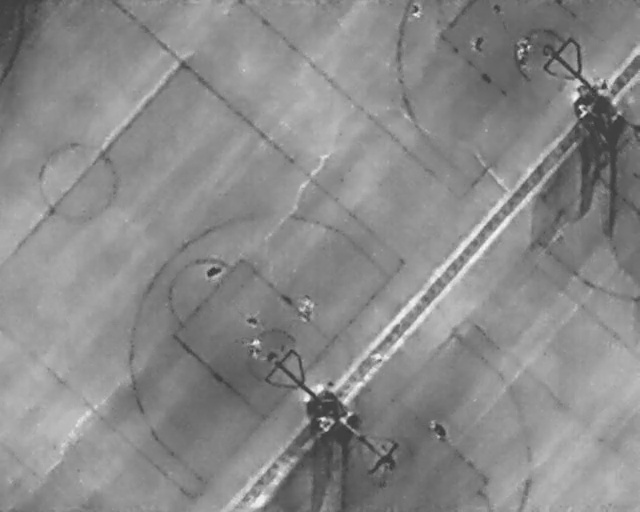Person: (425, 416, 451, 444), (202, 261, 226, 284), (513, 38, 534, 64), (298, 292, 314, 323), (468, 32, 487, 54), (248, 338, 262, 362), (243, 313, 260, 327), (410, 1, 423, 19), (600, 78, 609, 95)
